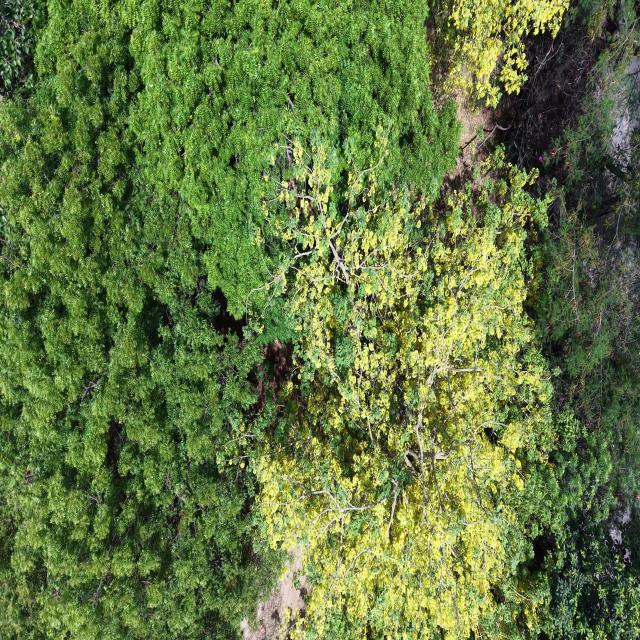DRY_AREA: (241, 550, 309, 639), (241, 550, 307, 639), (455, 92, 503, 170)
VEGETATION_TREE: (0, 0, 639, 639), (0, 0, 457, 639), (0, 2, 276, 639), (258, 136, 558, 638), (122, 0, 457, 317), (515, 2, 639, 638), (537, 203, 639, 638), (432, 0, 569, 107), (0, 0, 45, 99)
